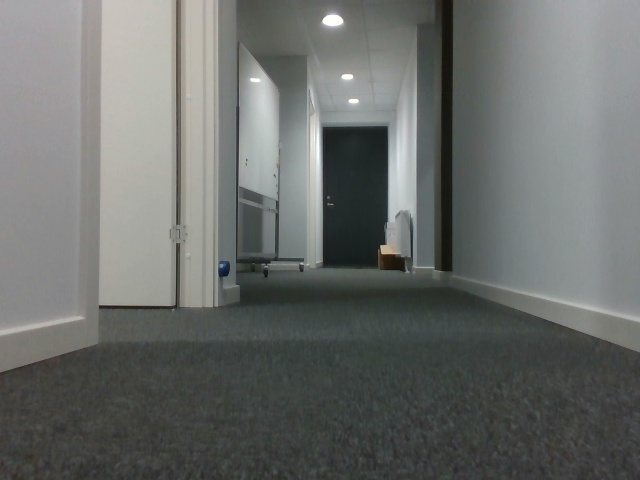alfa: (216, 258, 232, 277)
